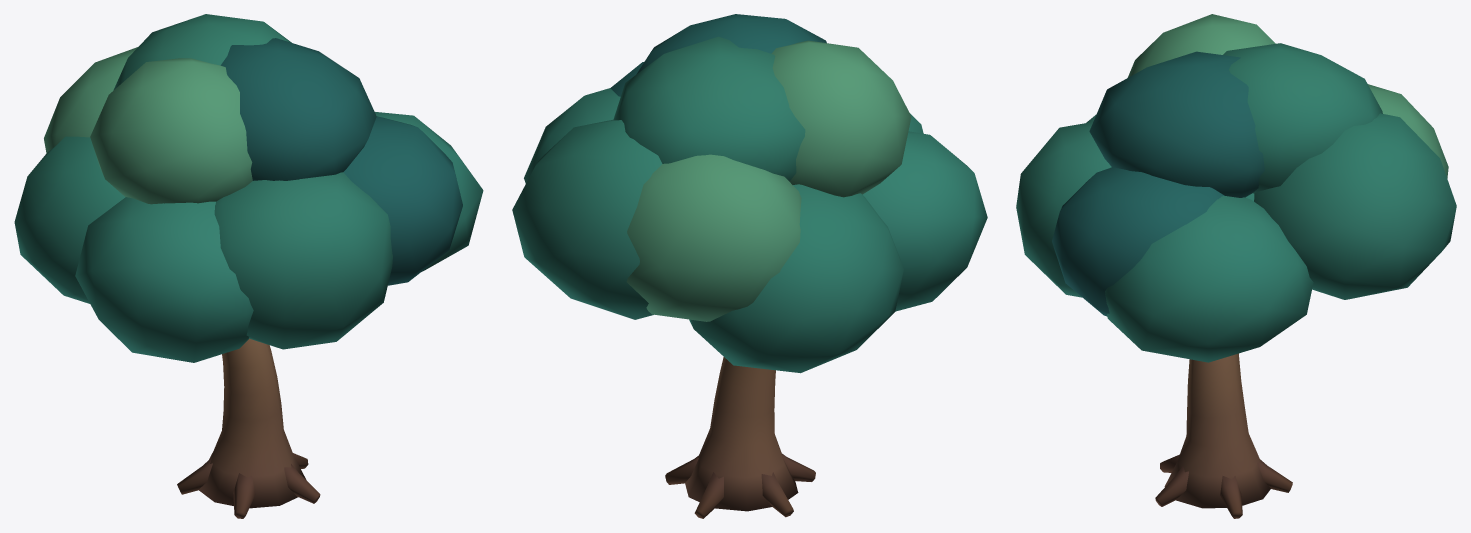
Rendered from tree_oak_a.glb.
The picture shows the model from 3 angles, left to right: view 1: azimuth 30°, elevation 25°; view 2: azimuth 150°, elevation 25°; view 3: azimuth 270°, elevation 25°; orthographic projection. The views are drawn at different scales.
Visible parts, largest first — view 1: tree_oak_a; view 2: tree_oak_a; view 3: tree_oak_a.
Part boxes in pixels (box(x1,y1,x2,y2)): tree_oak_a: box(14, 14, 483, 518); tree_oak_a: box(512, 14, 987, 518); tree_oak_a: box(1016, 14, 1456, 518).
Size of the model in its own units: 7.75 by 8.36 by 7.68.
